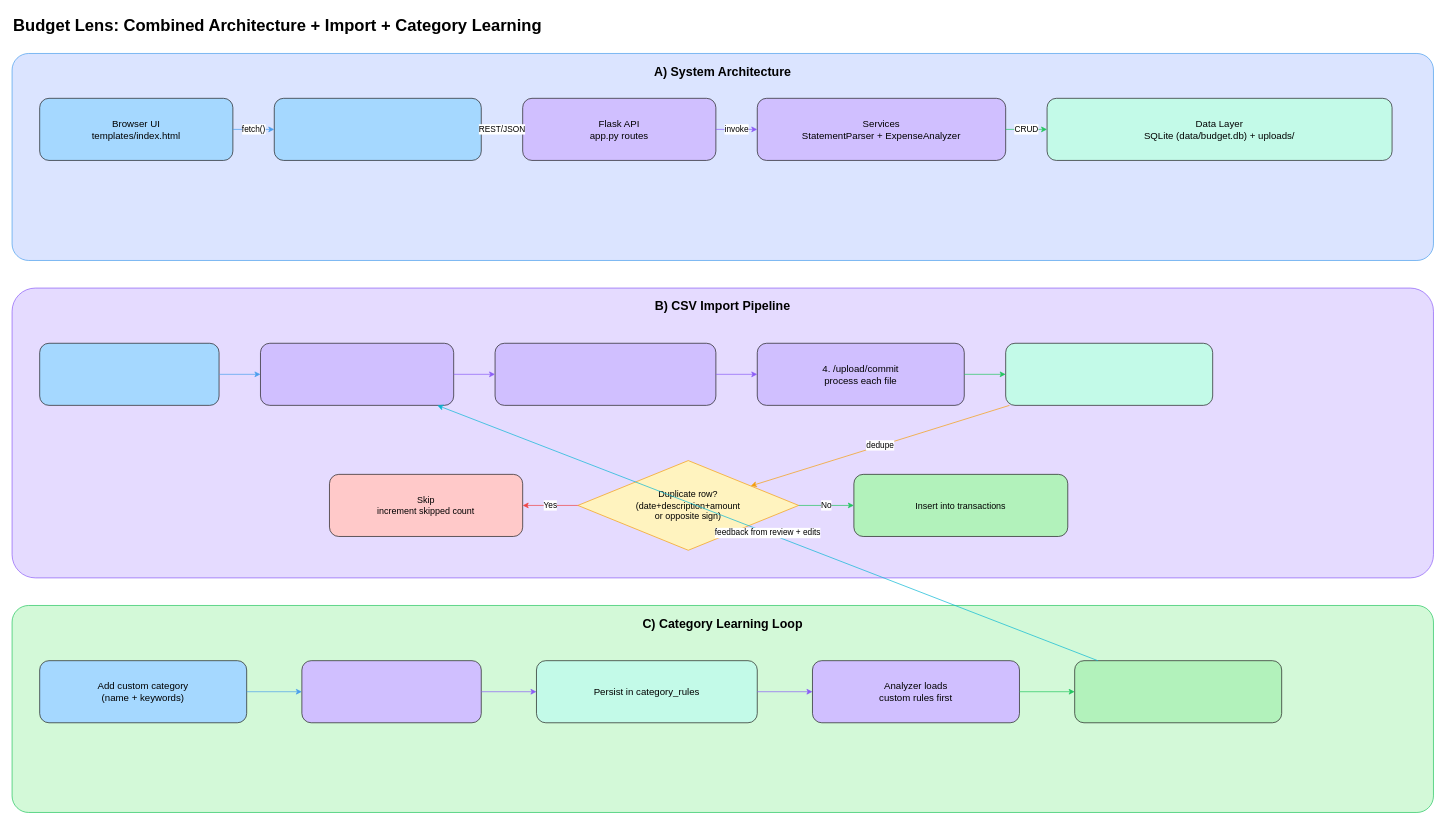
The diagram is 1446 pixels wide and 825 high, and some of its shapes have lost their labels. Each missing label, with the centre of its shape:
1. Select CSV/XLS: (x=129, y=374)
2. /upload/preview infer mapping: (x=357, y=374)
3. Confirm mapping + bank + statement type: (x=605, y=374)
5. Normalize rows exclude credits keep debits: (x=1109, y=374)
Client Logic static/js/app.js: (x=377, y=129)
Future uploads auto-categorize: (x=1178, y=691)
POST /categories: (x=391, y=691)
